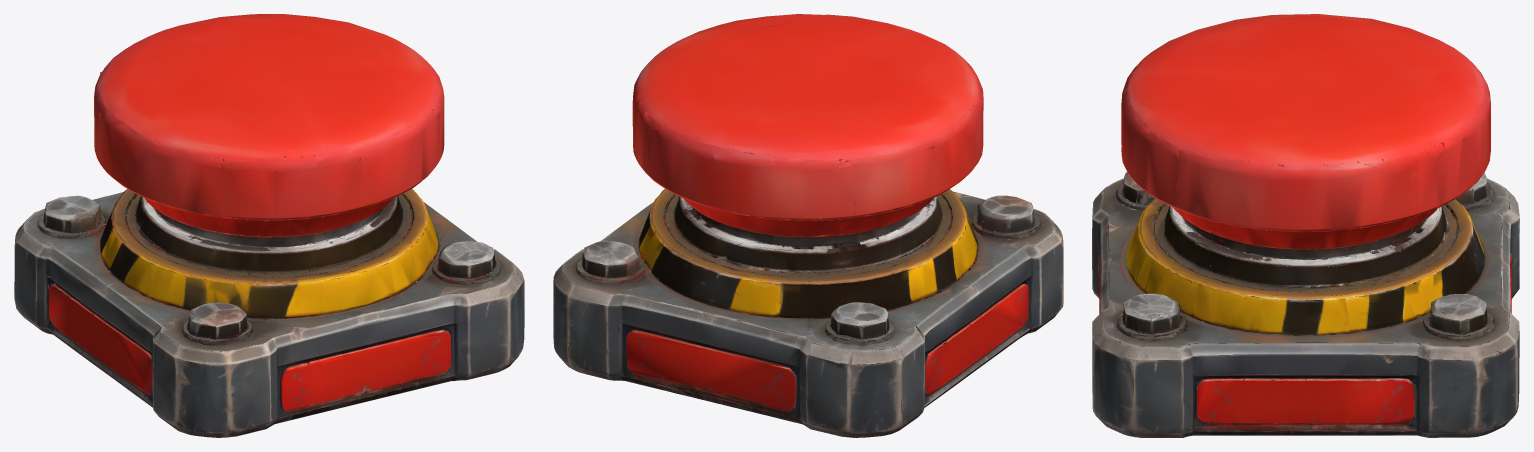
File: button_goal_red_01.glb
The picture shows the model from 3 angles, left to right: view 1: azimuth 30°, elevation 25°; view 2: azimuth 150°, elevation 25°; view 3: azimuth 270°, elevation 25°; orthographic projection. The views are drawn at different scales.
Visible parts, largest first — view 1: button_goal_red_01; view 2: button_goal_red_01; view 3: button_goal_red_01.
Part boxes in pixels (<box>): button_goal_red_01: <box>14,14,524,437</box>; button_goal_red_01: <box>553,14,1063,437</box>; button_goal_red_01: <box>1092,14,1519,437</box>.
Bounding box in the file's own units: 7 × 4.98 × 7.02.
Materials: 1 (1 with a texture image).
